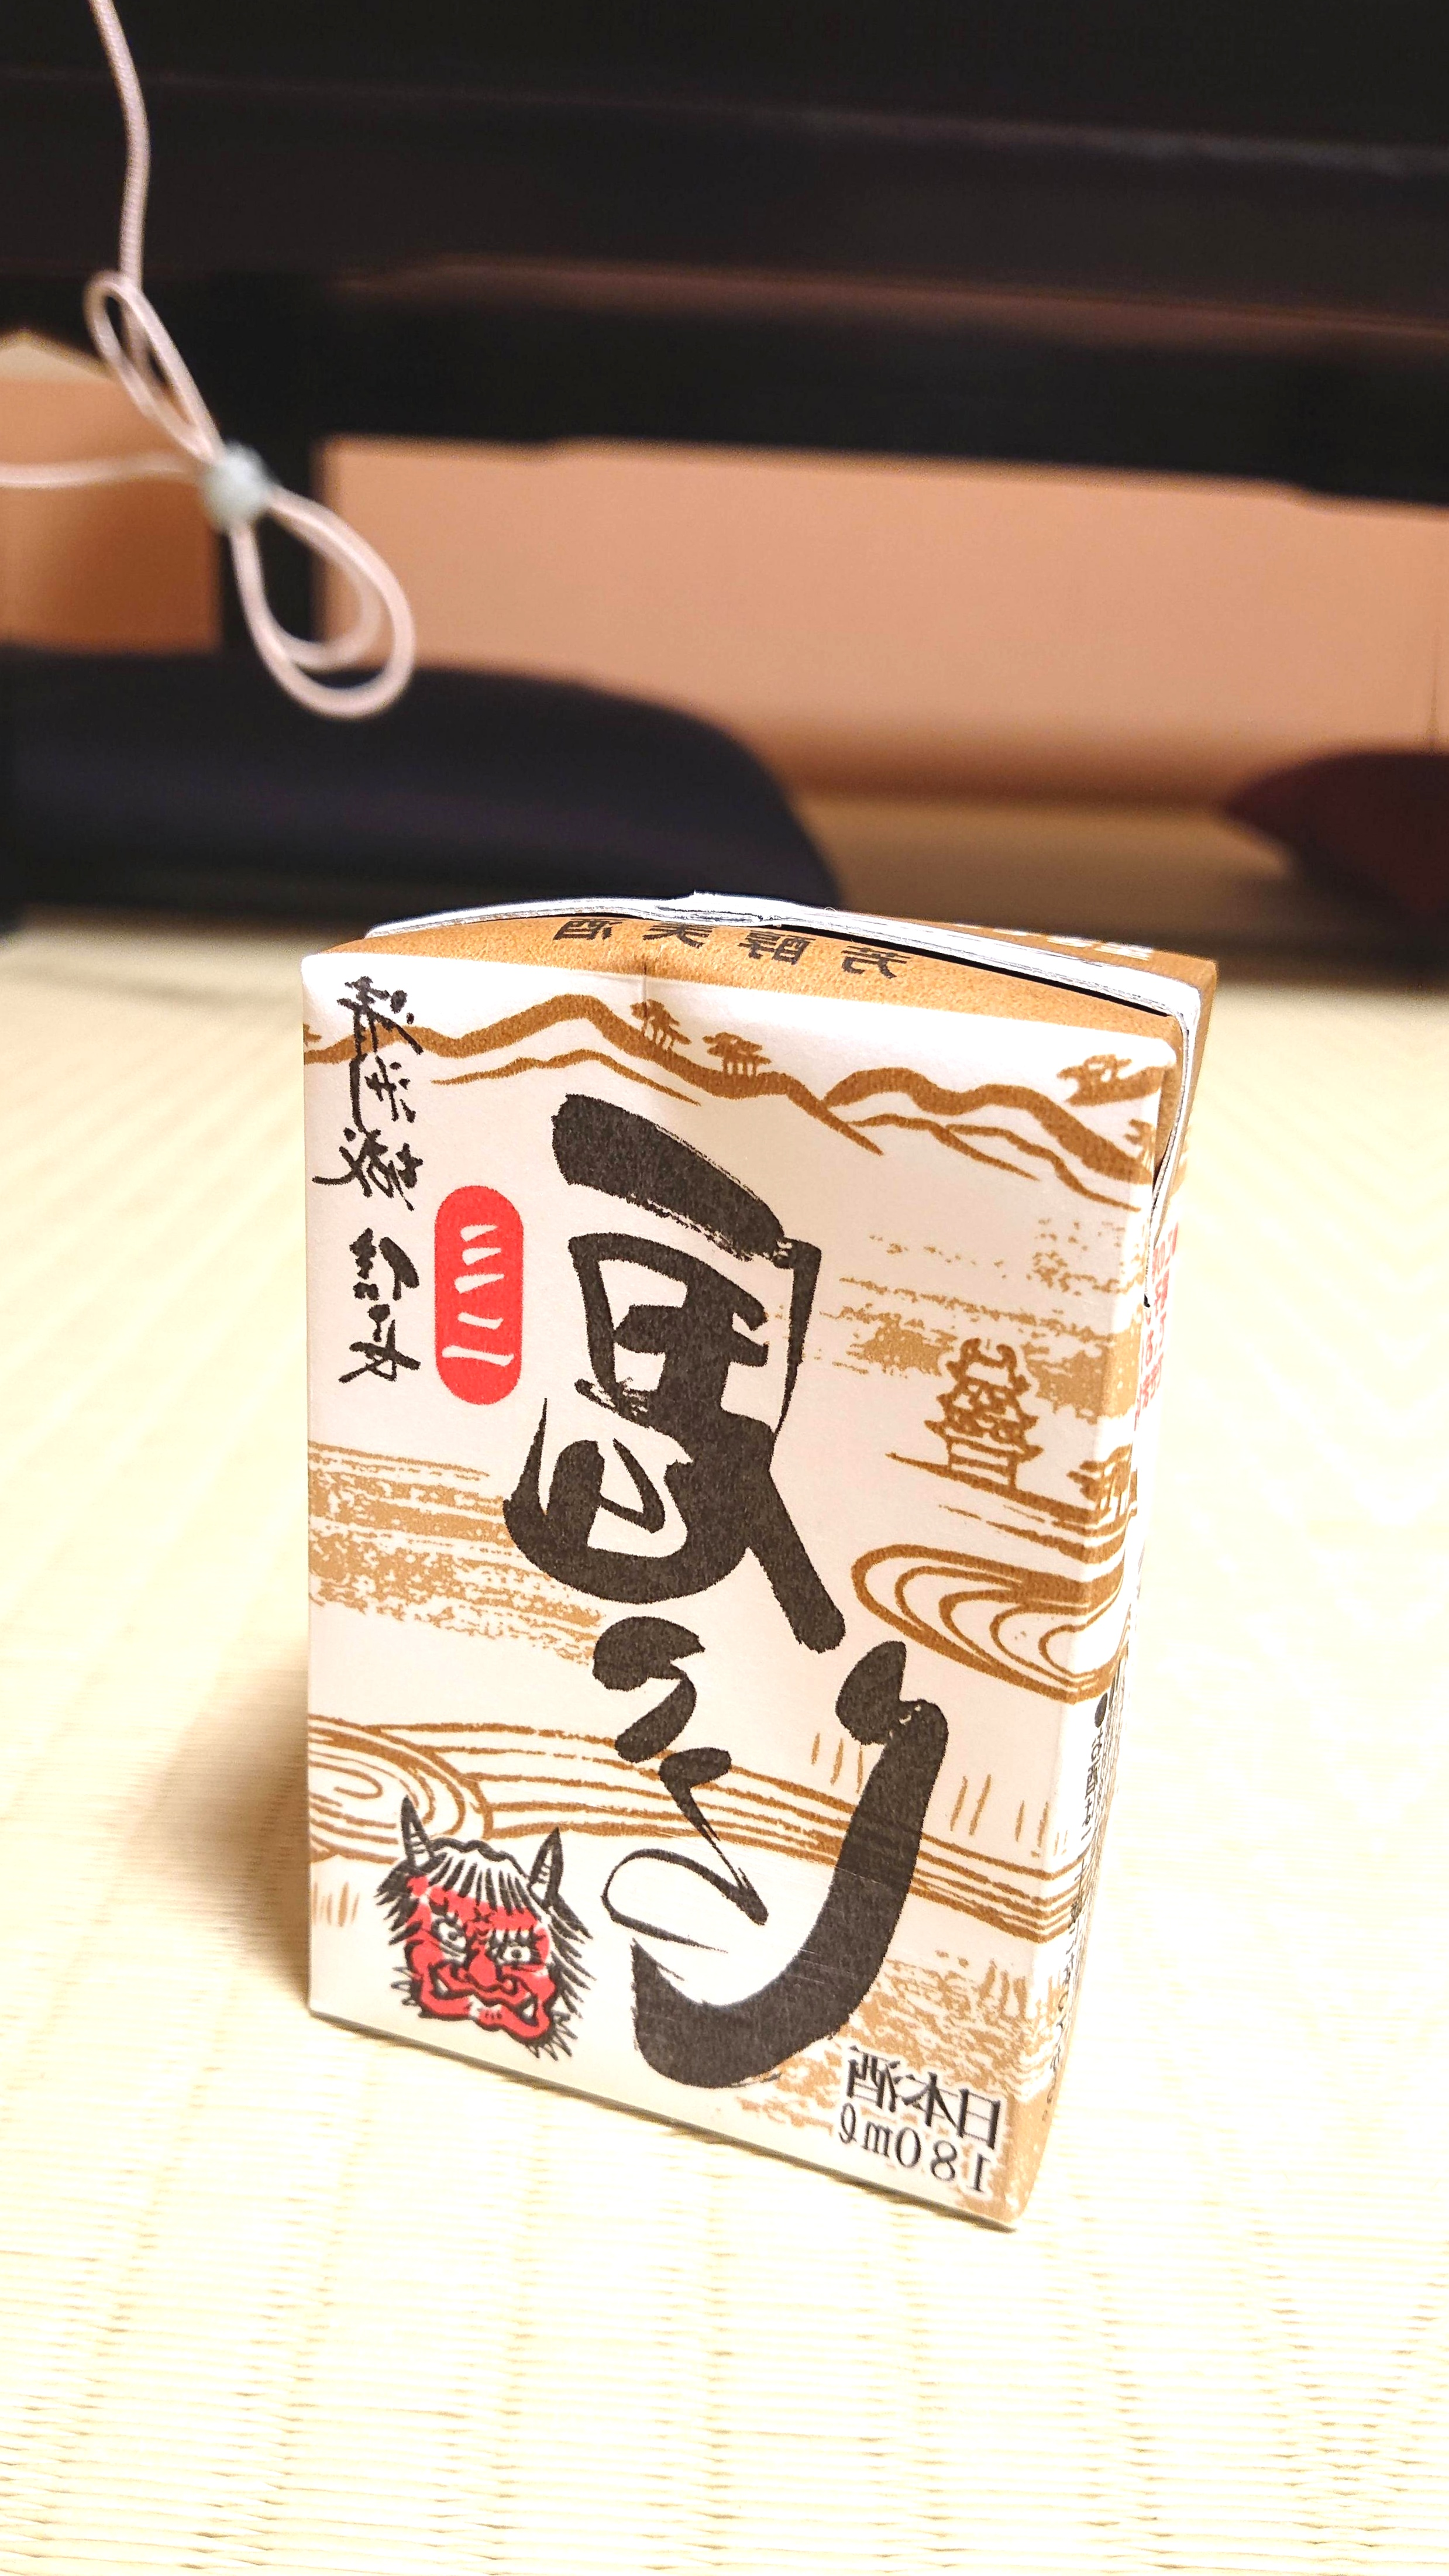鋁箔包: (182, 826, 1281, 2250)
